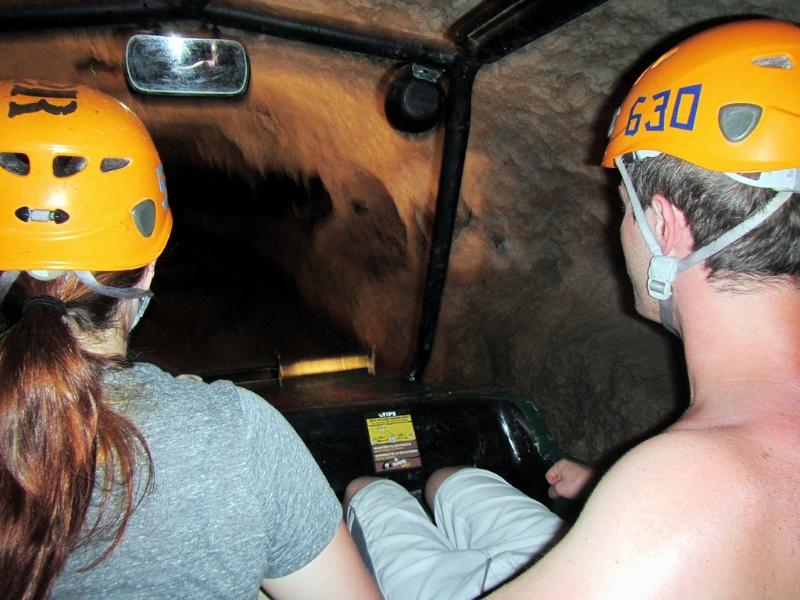Baret: (1, 78, 169, 270), (604, 18, 800, 172)
